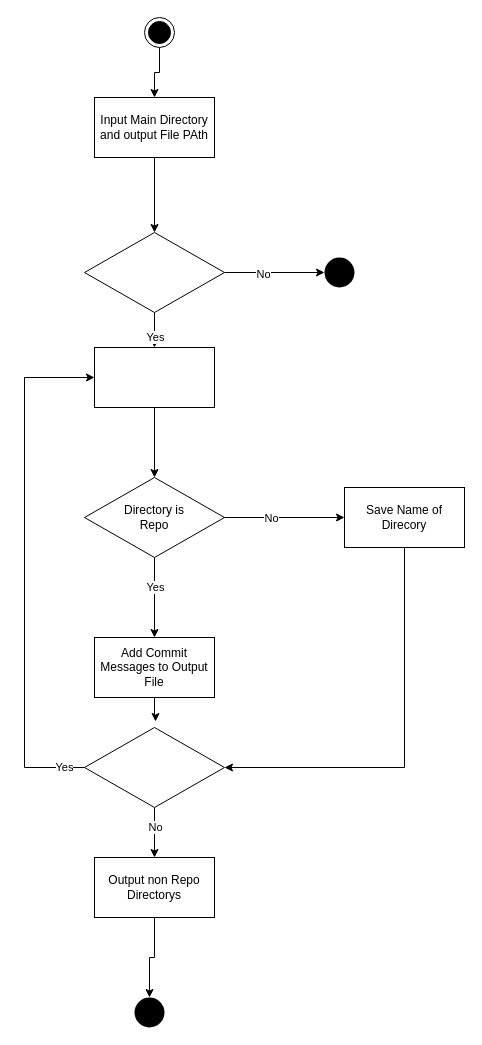
This 482x1045 diagram has some shape labels left out. Each missing label, with the centre of its shape:
"Are Threre Subdirectorys" belongs at pixel 154 272.
"Is there next Directory" belongs at pixel 154 767.
"Move to next Directory" belongs at pixel 154 377.
